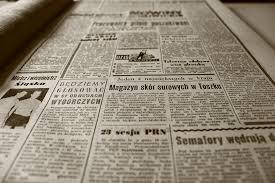Printing industry: (1, 4, 275, 183)
